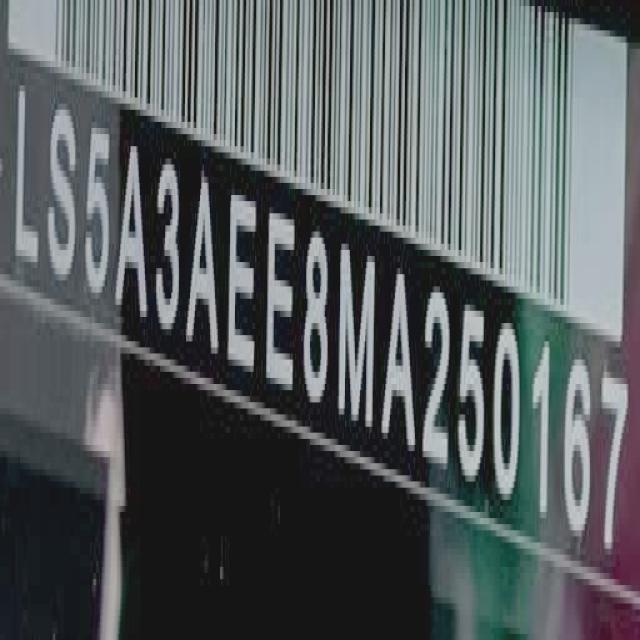0: (493, 303, 523, 513)
1: (532, 318, 552, 535)
2: (422, 270, 452, 485)
3: (154, 142, 182, 352)
5: (459, 284, 488, 495), (85, 113, 114, 316)
6: (564, 345, 594, 549)
7: (602, 360, 630, 570)
8: (302, 224, 330, 416)
A: (188, 148, 223, 374), (381, 253, 419, 460), (117, 116, 150, 331)
E: (265, 194, 297, 397), (226, 188, 256, 390)
L: (11, 74, 39, 276)
M: (338, 237, 376, 447)
S: (44, 86, 78, 298)
